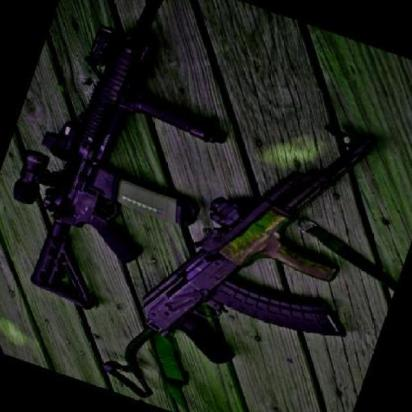Gun: (7, 0, 228, 303), (136, 126, 386, 364)
